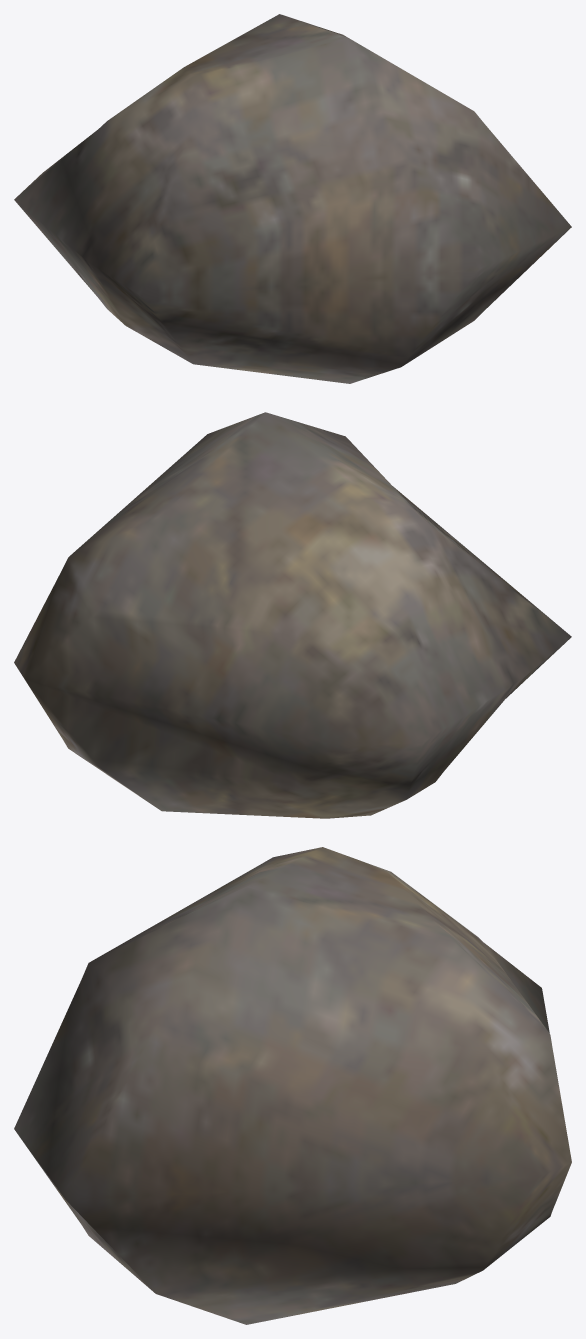
File: detail_mesh_2.fbx
3 renders of one model, top to bottom at view 1: azimuth 30°, elevation 25°; view 2: azimuth 150°, elevation 25°; view 3: azimuth 270°, elevation 25°, orthographic. The views are drawn at different scales.
Parts seen in each view (by area): view 1: envPrfRock_detailstoneC_jungle_detail; view 2: envPrfRock_detailstoneC_jungle_detail; view 3: envPrfRock_detailstoneC_jungle_detail.
Part boxes in pixels (x1,y1,x2,y2): envPrfRock_detailstoneC_jungle_detail: (14, 14, 571, 383); envPrfRock_detailstoneC_jungle_detail: (14, 412, 571, 818); envPrfRock_detailstoneC_jungle_detail: (14, 847, 571, 1324).
Size of the model in its own units: 1.7 by 1.4 by 1.62.
